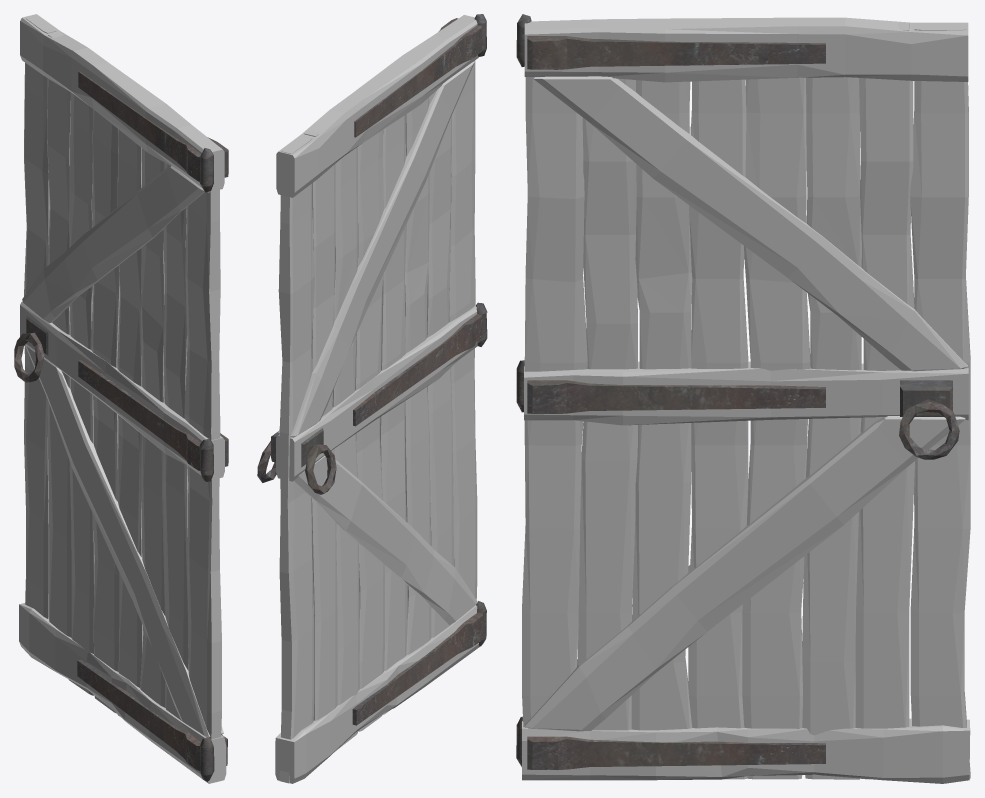
Rendered from SM_Door_02.fbx.
3 views of the same model, side by side, from view 1: azimuth 30°, elevation 25°; view 2: azimuth 150°, elevation 25°; view 3: azimuth 270°, elevation 25° (orthographic). The views are drawn at different scales.
Visible parts, largest first — view 1: SM_Door_02_LOD0; view 2: SM_Door_02_LOD0; view 3: SM_Door_02_LOD0.
Part boxes in pixels (x1,y1,x2,y2): SM_Door_02_LOD0: (14, 14, 228, 783); SM_Door_02_LOD0: (257, 14, 487, 783); SM_Door_02_LOD0: (516, 14, 970, 783).
Bounding box in the file's own units: 21.26 × 113 × 209.
